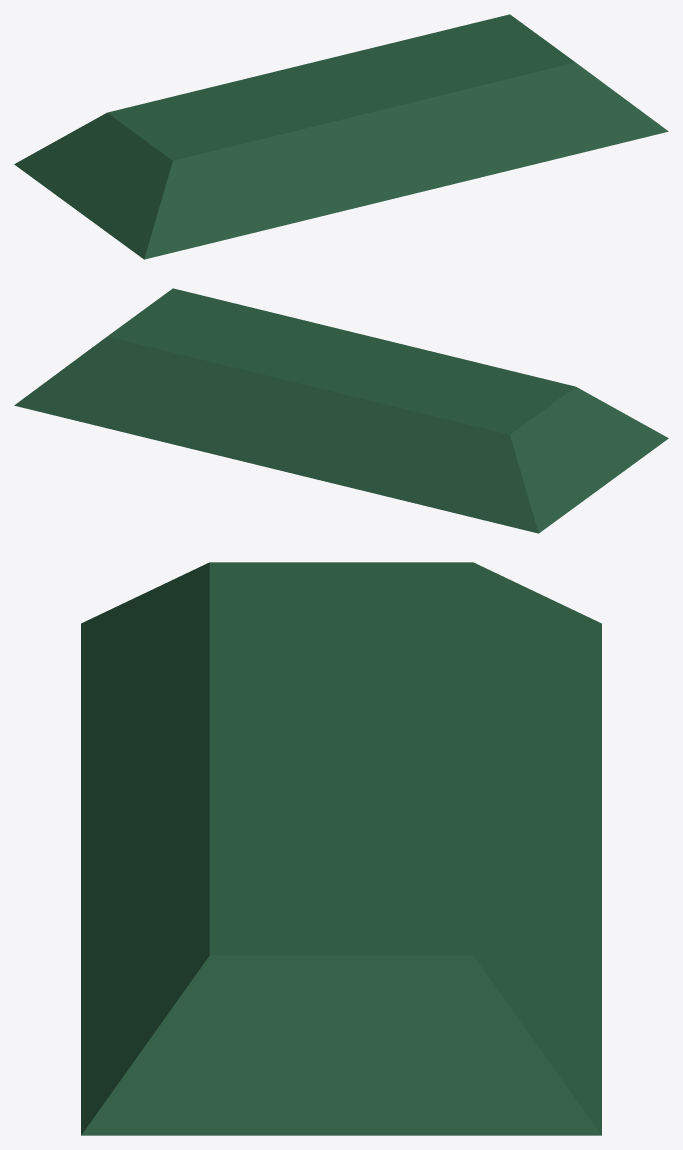
The model's file is MalachorBar.glb.
3 views of the same model, one above another, from view 1: azimuth 30°, elevation 25°; view 2: azimuth 150°, elevation 25°; view 3: azimuth 270°, elevation 25° (orthographic). The views are drawn at different scales.
Visible parts, largest first — view 1: MithrilBar; view 2: MithrilBar; view 3: MithrilBar.
Part boxes in pixels (box(x1,y1,x2,y2)): MithrilBar: box(14, 14, 668, 259); MithrilBar: box(14, 288, 668, 533); MithrilBar: box(81, 562, 601, 1135).
Size of the model in its own units: 4.19 by 0.4602 by 1.8.
